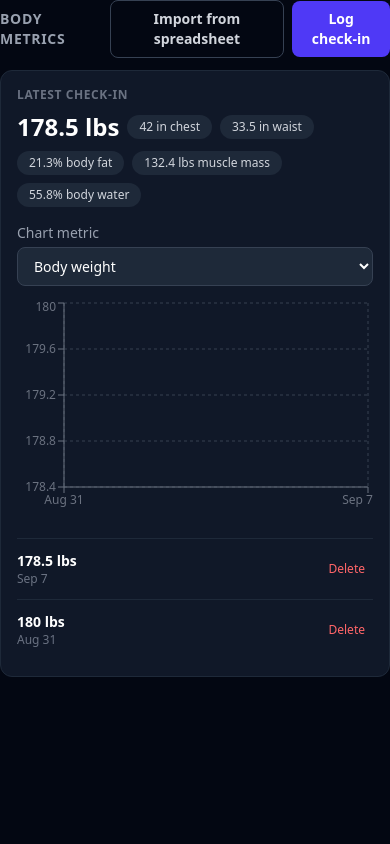
BodyMetricsSection › asks for confirmation before deleting a check-in
The width and height of the screenshot is (390, 844).
Click the button with aria-label "Delete Sep 7 check-in".
click(347, 569)  # box [320, 557, 373, 581]
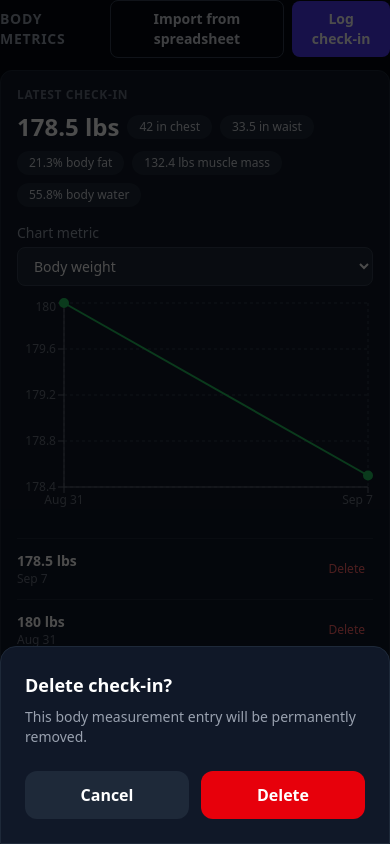
Expected: the heading "Delete check-in?" is shown, [25, 673, 172, 697]
